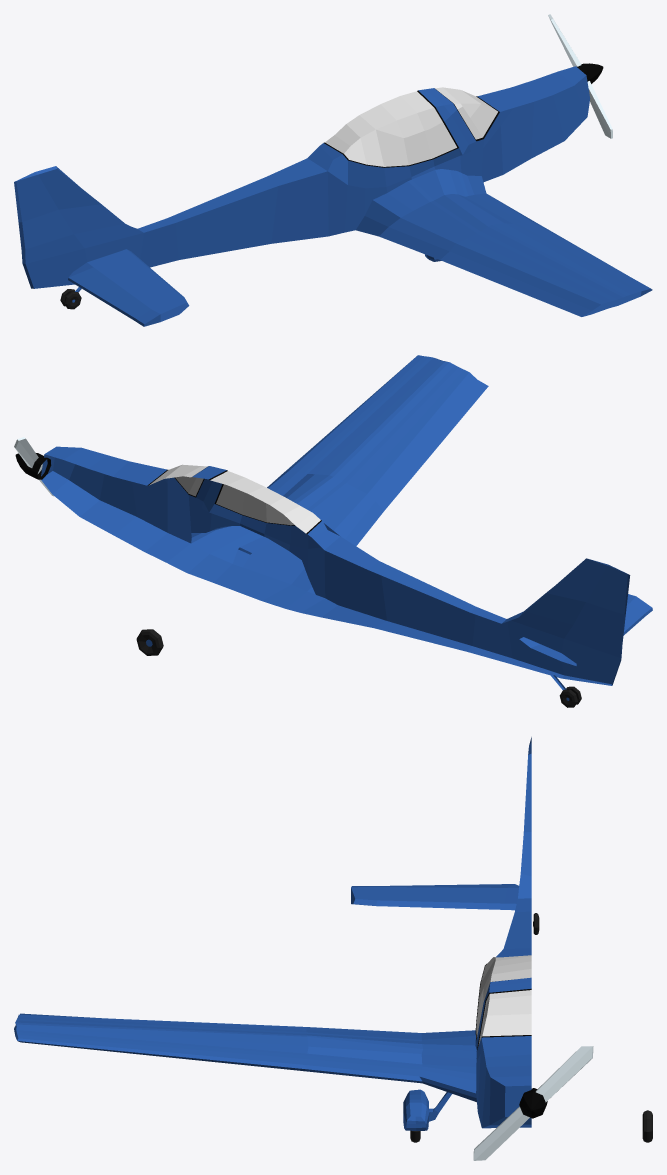
The model's file is plane_ultralight.glb.
3 renders of one model, top to bottom at view 1: azimuth 30°, elevation 25°; view 2: azimuth 150°, elevation 25°; view 3: azimuth 270°, elevation 25°, orthographic. The views are drawn at different scales.
Visible parts, largest first — view 1: main part of plane, propeller; view 2: main part of plane, propeller, front tier; view 3: main part of plane, propeller.
Boxes of the visible parts, x1,y1,x2,y2 form: main part of plane: (14,66,652,326); propeller: (548,14,612,138); main part of plane: (41,355,652,689); propeller: (14,437,53,496); front tier: (136,629,163,655); main part of plane: (14,737,531,1130); propeller: (473,1046,593,1160).
Bounding box in the file's own units: 12.84 × 3.21 × 10.19.
